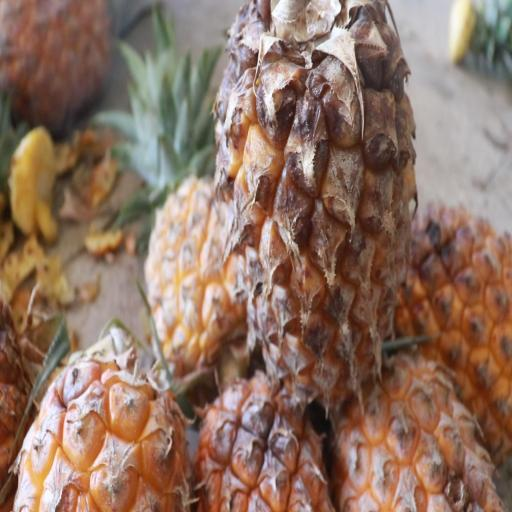Pineapple - v8 v1: (212, 0, 419, 411), (15, 318, 196, 512), (332, 320, 510, 512), (142, 80, 250, 394), (195, 356, 335, 512)
